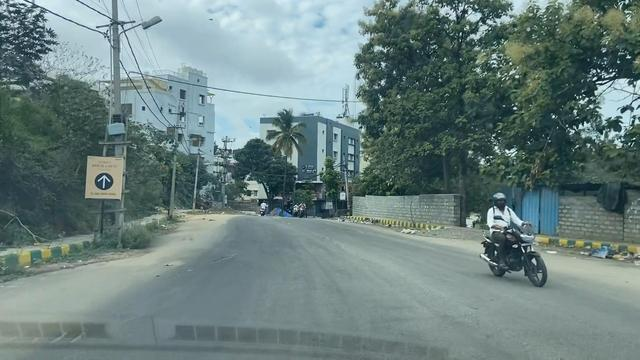RoadDamages: (197, 235, 248, 275)
